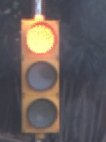Red: (15, 14, 69, 136)
